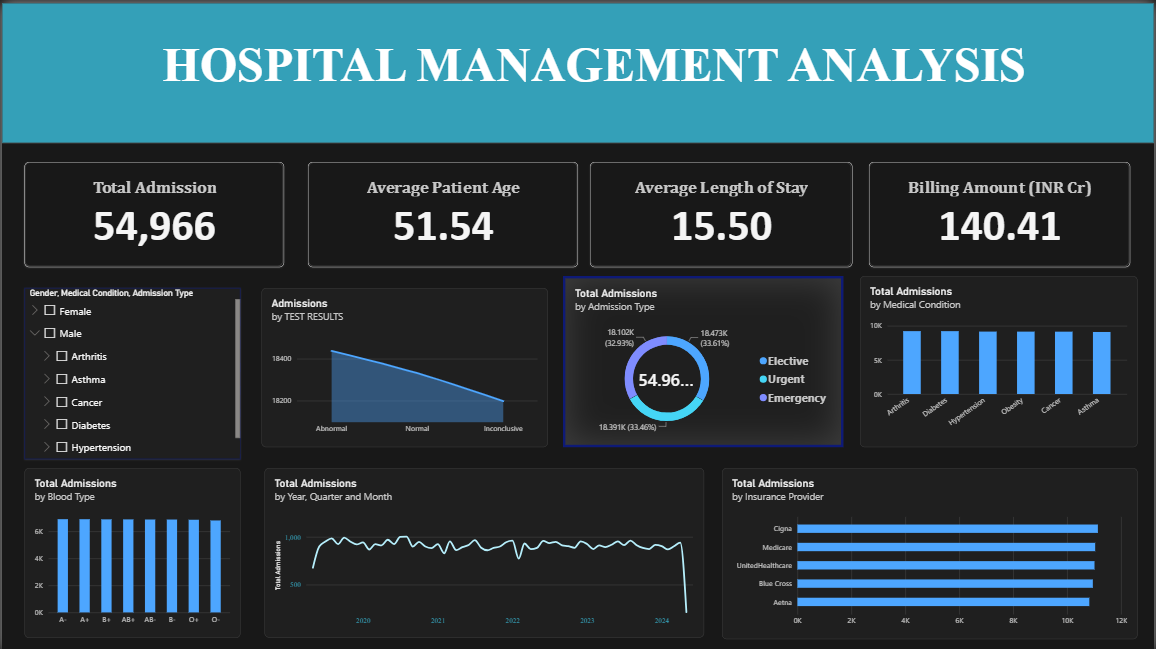

What the dashboard file says about the page in this screenshot:
{"tool":"powerbi","page":{"name":"Page 1","canvas":[1920,1080],"ordinal":0},"visuals":[{"type":"textbox","box":[0,0,1920,233.3],"z":0},{"type":"lineChart","fields":{"Category":["healthcare_dataset1.Date of Admission.Variation.Date Hierarchy.Year","healthcare_dataset1.Date of Admission.Variation.Date Hierarchy.Quarter","healthcare_dataset1.Date of Admission.Variation.Date Hierarchy.Month","healthcare_dataset1.Date of Admission.Variation.Date Hierarchy.Day"],"Y":["healthcare_dataset1.Total Admissions"]},"box":[437.5,775,732.5,282.5],"z":1000},{"type":"donutChart","fields":{"Category":["healthcare_dataset1.Admission Type"],"Y":["healthcare_dataset1.Total Admissions"]},"box":[935,455,467.5,285],"z":2000},{"type":"clusteredColumnChart","fields":{"Category":["healthcare_dataset1.Medical Condition"],"Y":["healthcare_dataset1.Total Admissions"]},"box":[1430,455,462.5,285],"z":3000},{"type":"stackedAreaChart","fields":{"Category":["healthcare_dataset1.Test Results"],"Y":["healthcare_dataset1.Total Admissions"]},"box":[432.5,475,477.5,265],"z":4000},{"type":"barChart","fields":{"Category":["healthcare_dataset1.Insurance Provider"],"Y":["healthcare_dataset1.Total Admissions"]},"box":[1200,775,692.5,285],"z":5000},{"type":"slicer","fields":{"Values":["healthcare_dataset1.Gender","healthcare_dataset1.Medical Condition","healthcare_dataset1.Admission Type"]},"box":[37.5,475,360,285],"z":6000},{"type":"clusteredColumnChart","fields":{"Category":["healthcare_dataset1.Blood Type"],"Y":["healthcare_dataset1.Total Admissions"]},"box":[38,775,360,283],"z":7000},{"type":"cardVisual","fields":{"Data":["healthcare_dataset1.Admissions_Display"]},"box":[37.5,265,432.5,175],"z":8000},{"type":"cardVisual","fields":{"Data":["healthcare_dataset1.Average Patient Age"]},"box":[510,265,450,175],"z":9000},{"type":"cardVisual","fields":{"Data":["healthcare_dataset1.Average Length of Stay"]},"box":[980,265,437.5,175],"z":10000},{"type":"cardVisual","fields":{"Data":["healthcare_dataset1.Billing Amount (INR Cr)"]},"box":[1445,265,435,175],"z":11000}]}

Visuals, with their boxes in screenshot pixels (x1, y1, x2, y2), scaled from the page's 1920x1080 canvas onto the 1156x649 screenshot:
textbox: <box>0,0,1155,140</box>
lineChart - healthcare_dataset1.Date of Admission.Variation.Date Hierarchy.Year x healthcare_dataset1.Date of Admission.Variation.Date Hierarchy.Quarter: <box>263,466,704,635</box>
donutChart - healthcare_dataset1.Admission Type x healthcare_dataset1.Total Admissions: <box>563,273,844,445</box>
clusteredColumnChart - healthcare_dataset1.Medical Condition x healthcare_dataset1.Total Admissions: <box>861,273,1139,445</box>
stackedAreaChart - healthcare_dataset1.Test Results x healthcare_dataset1.Total Admissions: <box>260,285,548,445</box>
barChart - healthcare_dataset1.Insurance Provider x healthcare_dataset1.Total Admissions: <box>722,466,1139,637</box>
slicer - healthcare_dataset1.Gender x healthcare_dataset1.Medical Condition: <box>23,285,239,457</box>
clusteredColumnChart - healthcare_dataset1.Blood Type x healthcare_dataset1.Total Admissions: <box>23,466,240,636</box>
cardVisual - healthcare_dataset1.Admissions_Display: <box>23,159,283,264</box>
cardVisual - healthcare_dataset1.Average Patient Age: <box>307,159,578,264</box>
cardVisual - healthcare_dataset1.Average Length of Stay: <box>590,159,853,264</box>
cardVisual - healthcare_dataset1.Billing Amount (INR Cr): <box>870,159,1132,264</box>
